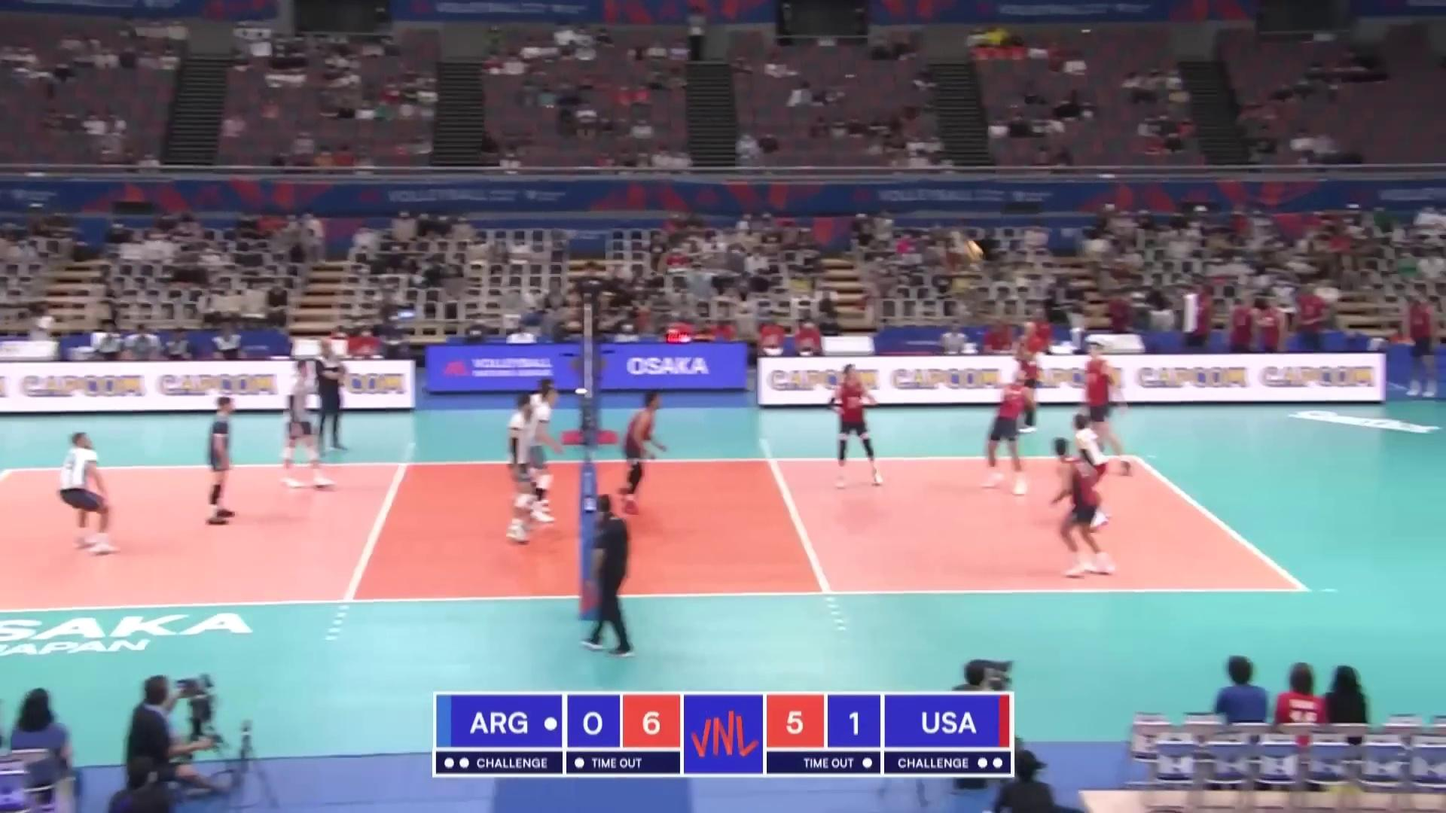player: (1051, 439, 1114, 580), (1069, 342, 1134, 476), (57, 434, 119, 555), (282, 361, 336, 489), (826, 365, 882, 488), (982, 366, 1033, 496), (616, 394, 669, 514), (502, 396, 535, 546), (523, 384, 558, 525), (1068, 417, 1110, 526), (204, 396, 237, 527), (525, 378, 559, 503)
refree: (585, 499, 636, 652), (572, 263, 607, 367)
